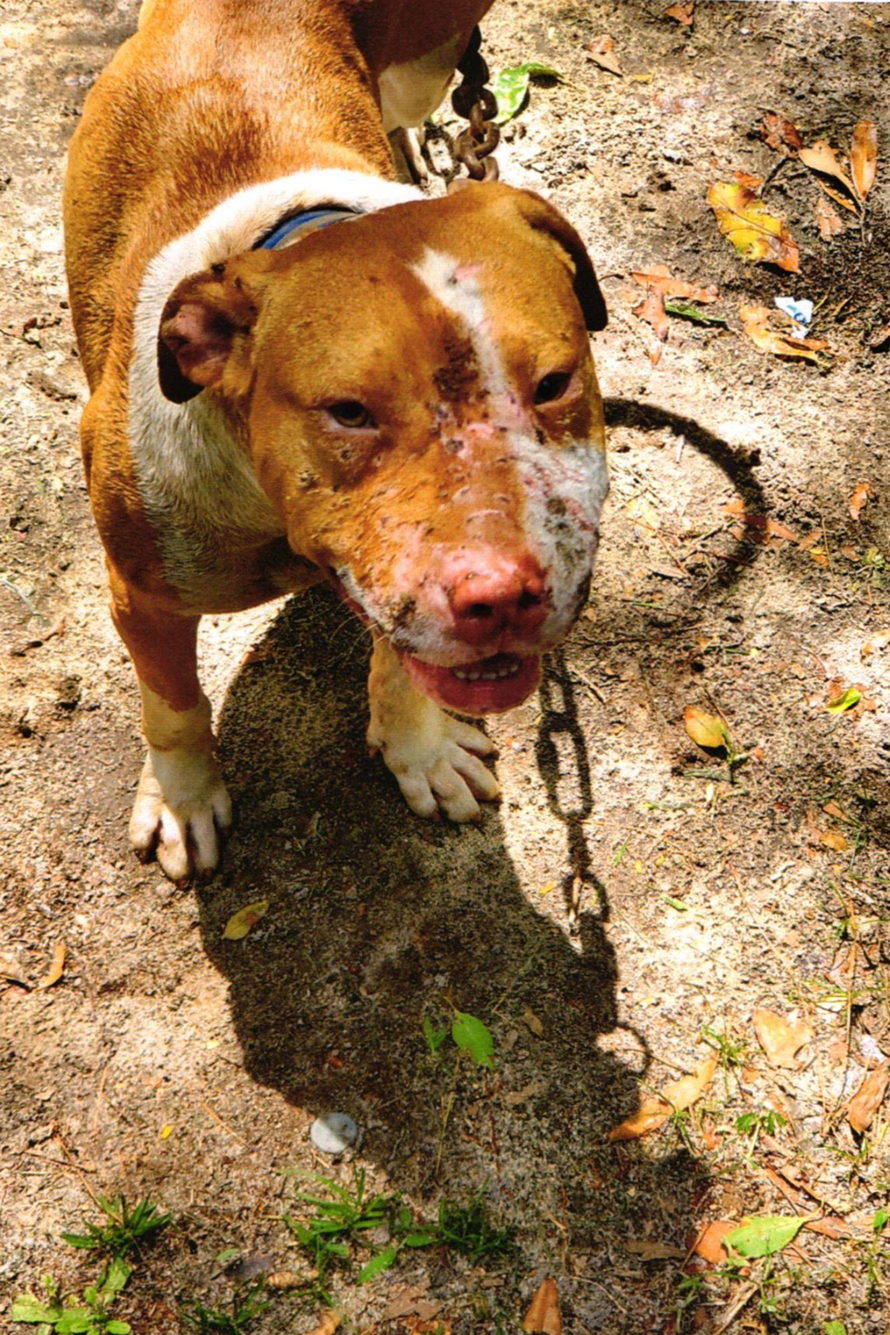infection: (271, 281, 621, 654)
